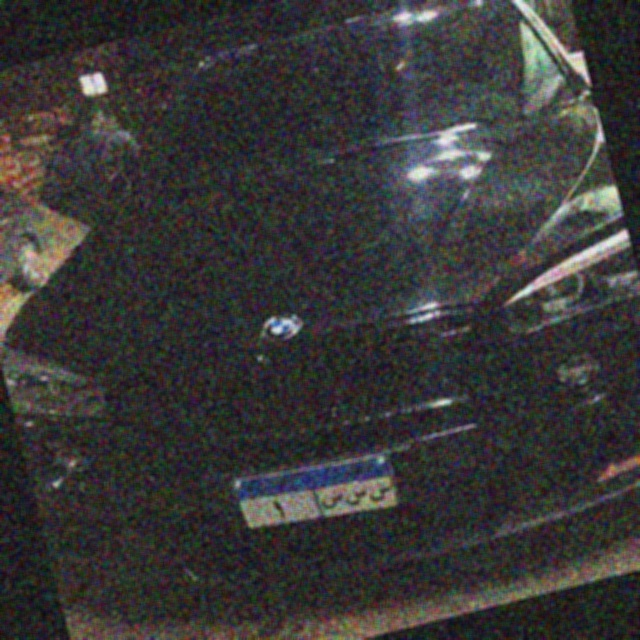License Plate: (225, 439, 406, 549)
